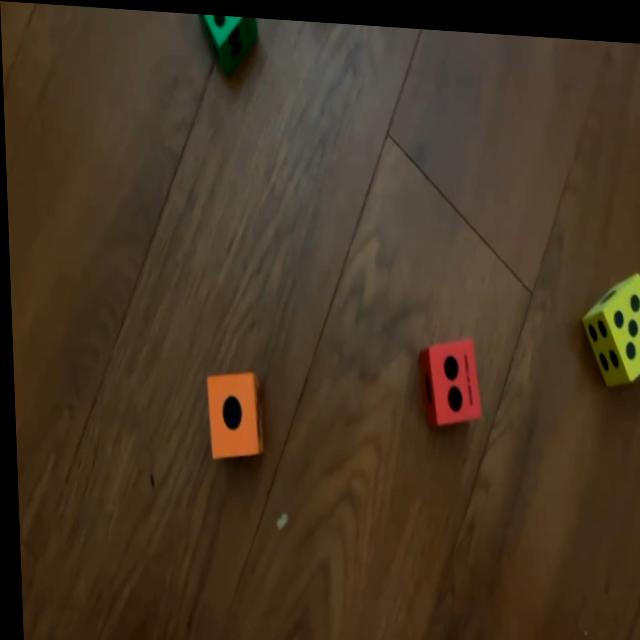cube: (417, 329, 478, 420), (203, 11, 260, 69)
